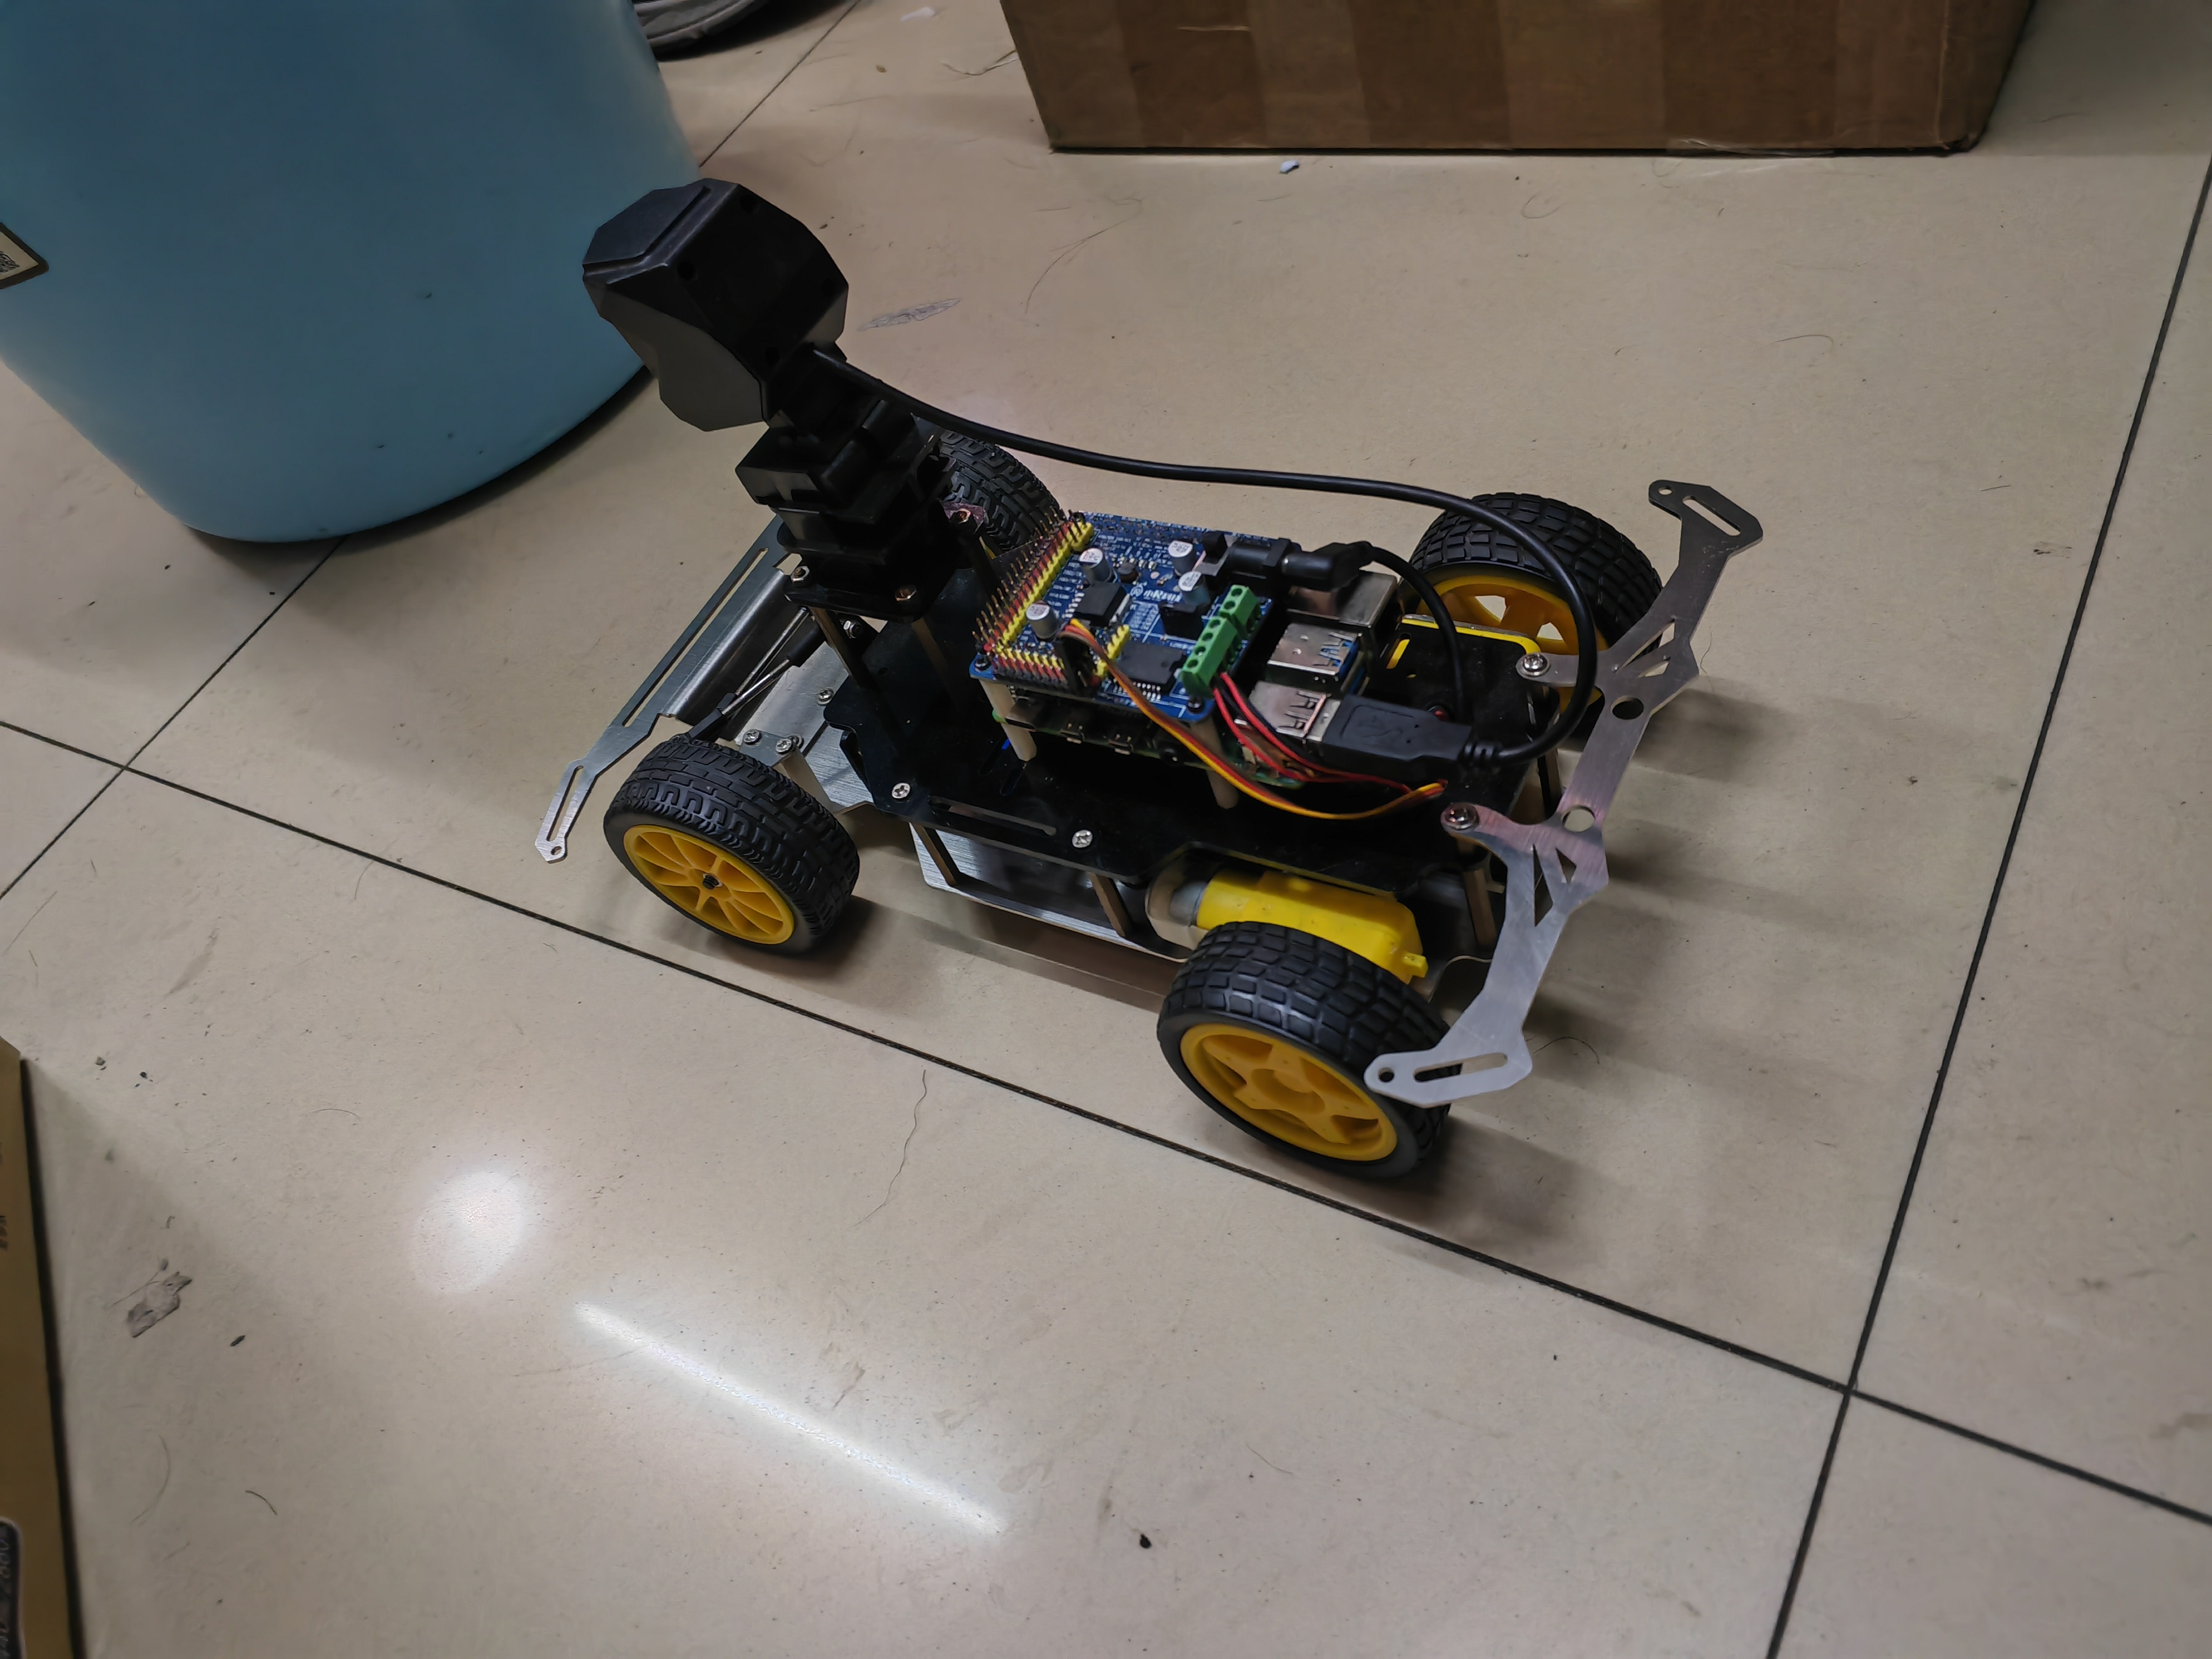car: (512, 164, 1799, 1194)
